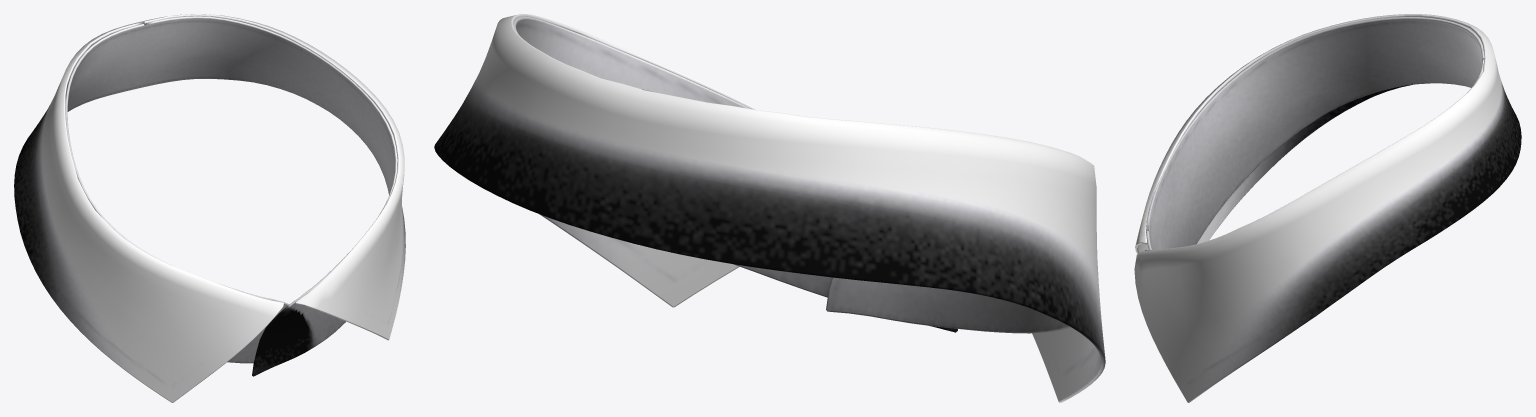
Rendered from chenshanlingzi.FBX.
3 renders of one model, left to right at view 1: azimuth 30°, elevation 25°; view 2: azimuth 150°, elevation 25°; view 3: azimuth 270°, elevation 25°, orthographic. The views are drawn at different scales.
Parts seen in each view (by area): view 1: default013; view 2: default013; view 3: default013.
Part boxes in pixels (x1,y1,x2,y2): default013: (14, 14, 405, 402); default013: (434, 14, 1105, 402); default013: (1134, 14, 1521, 402).
Bounding box in the file's own units: 14.59 × 9.98 × 12.09.
